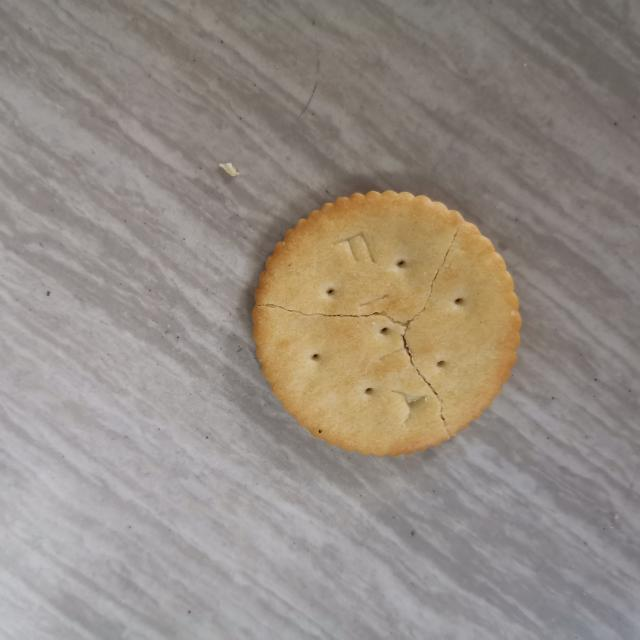Fracture: (251, 210, 472, 440)
